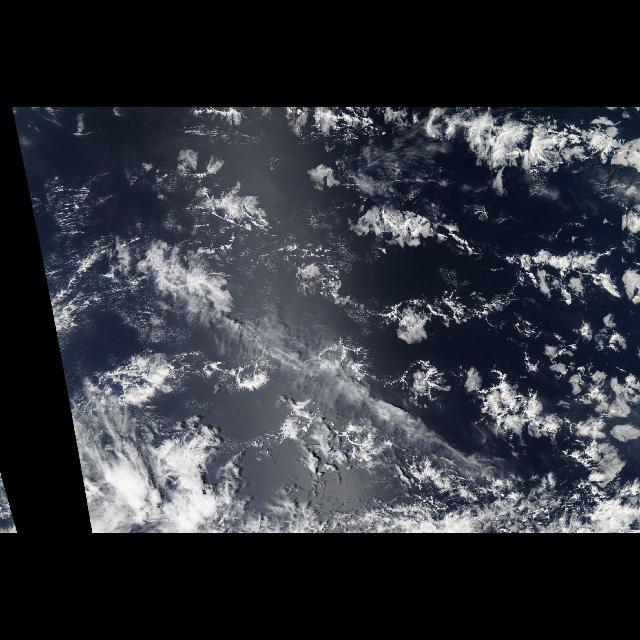Flower: (336, 184, 634, 482)
